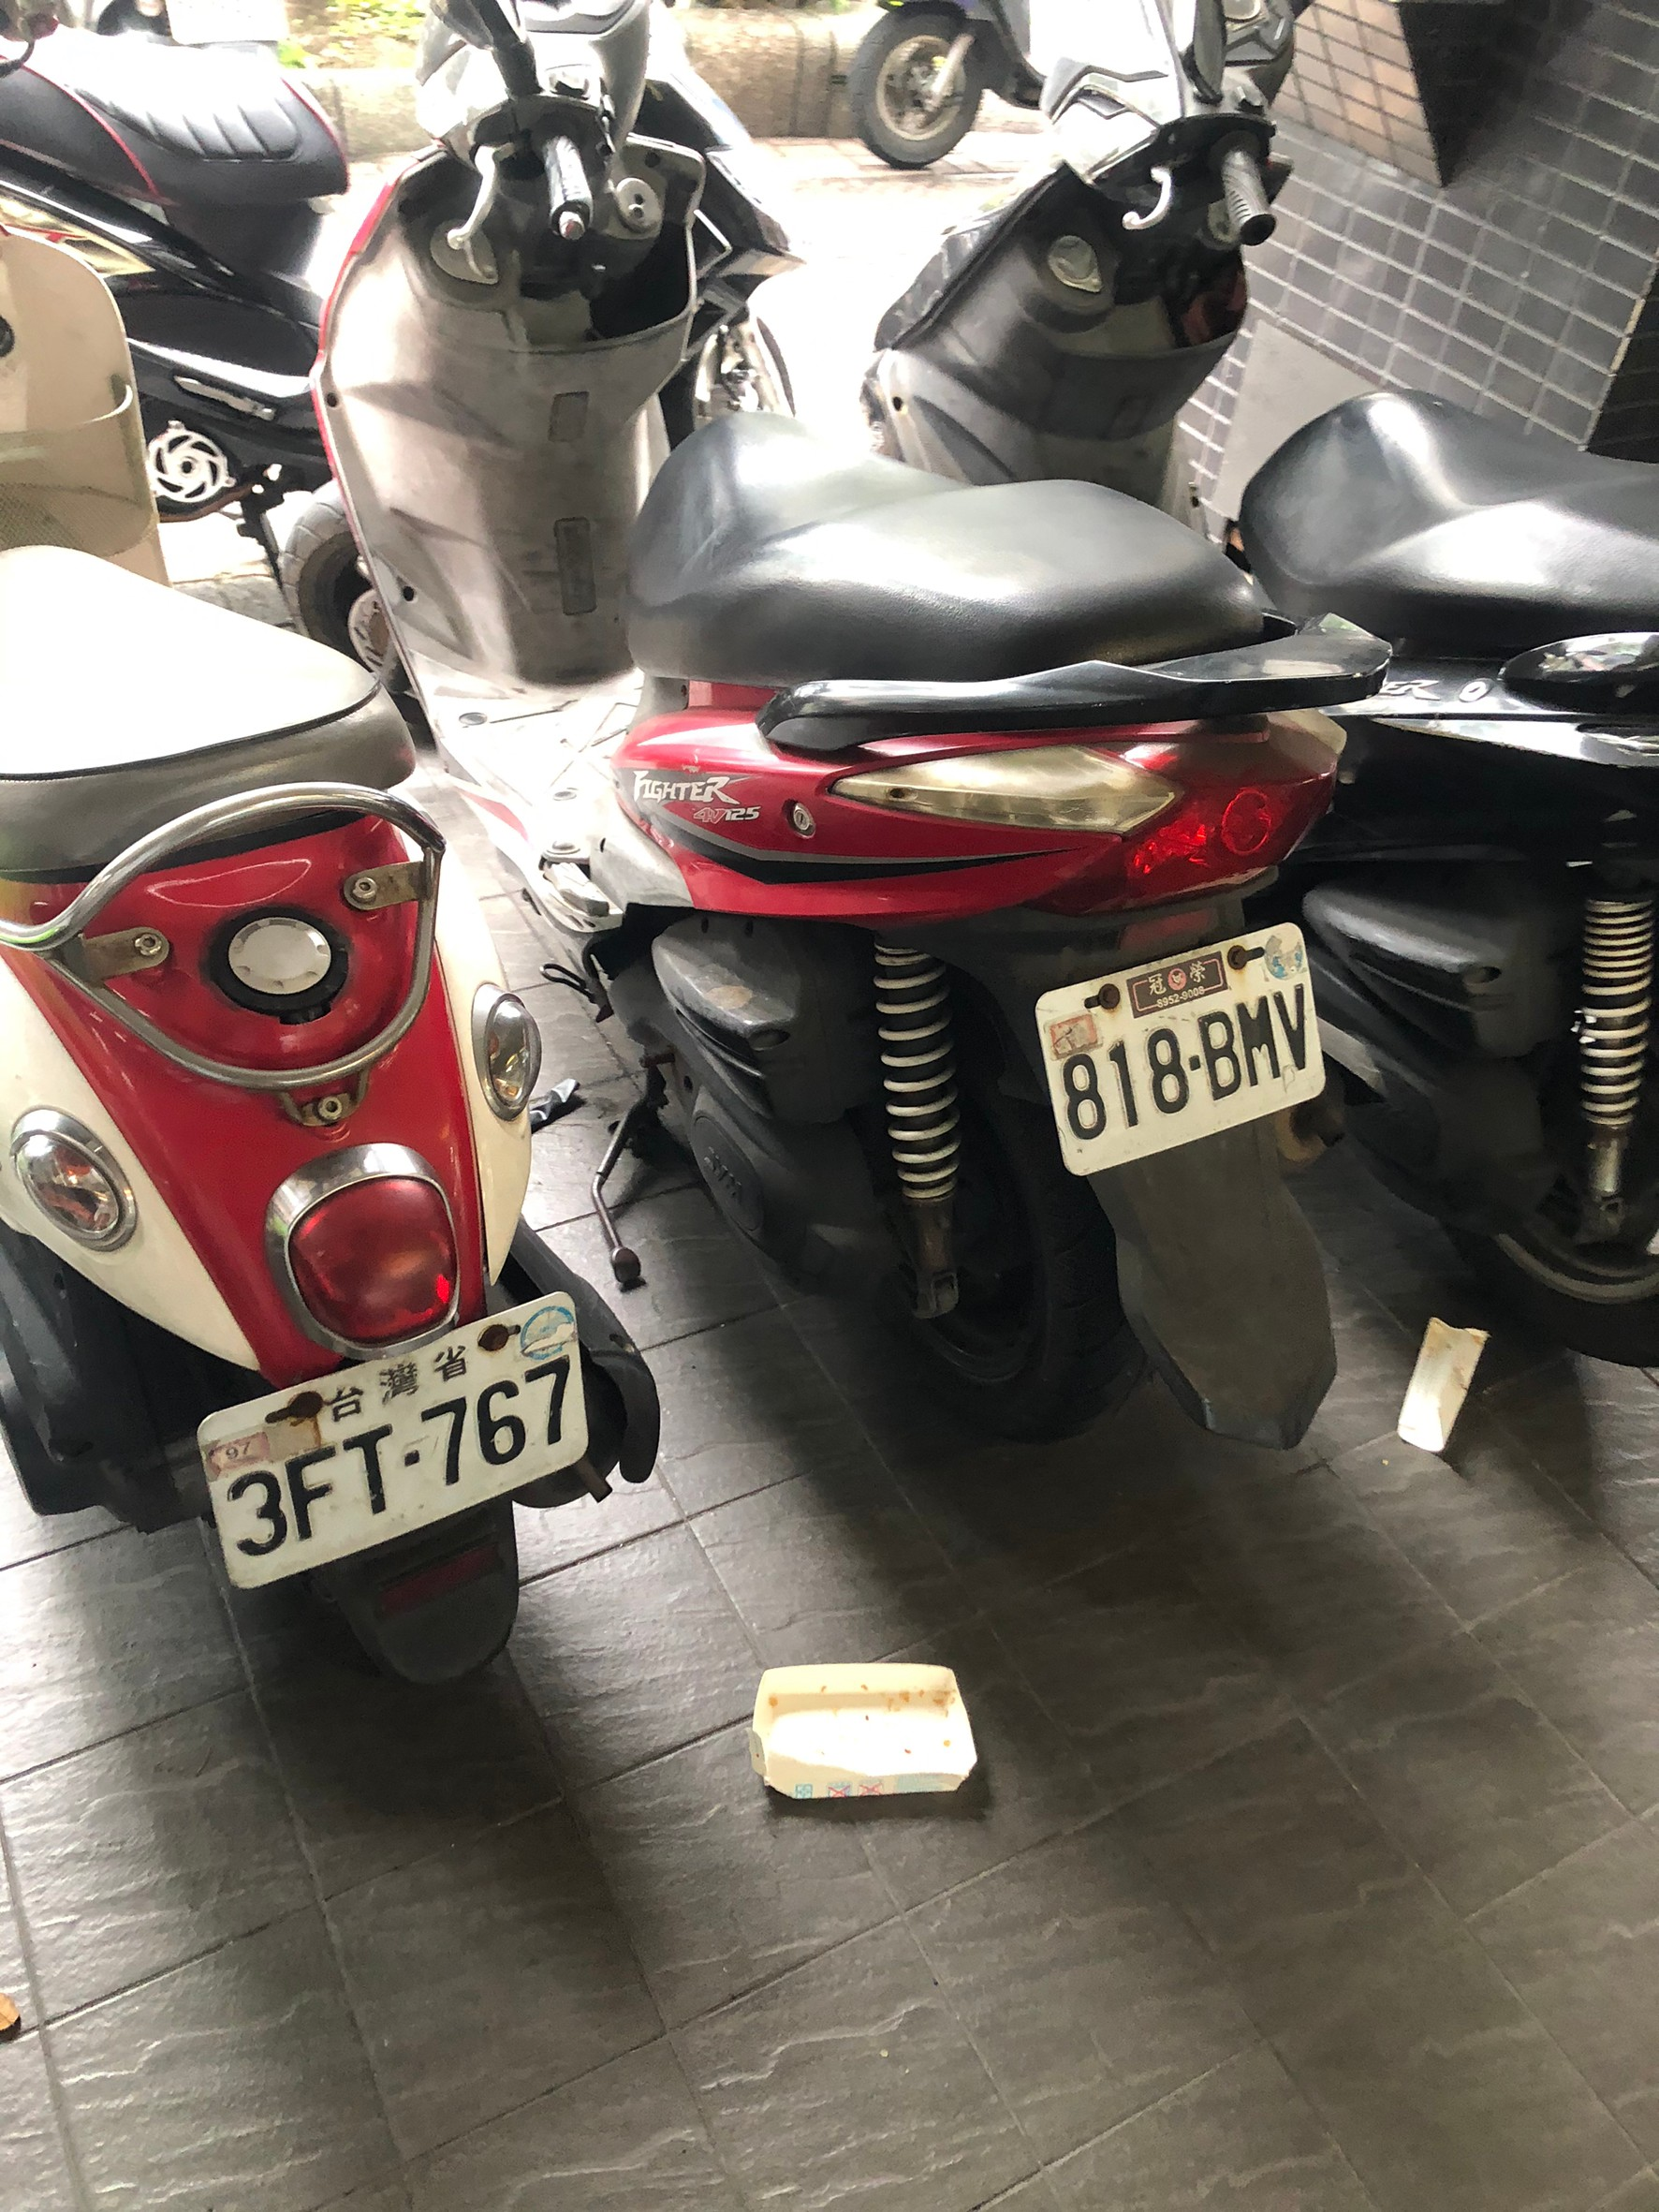LP: (192, 1302, 598, 1581), (1025, 940, 1356, 1180)
